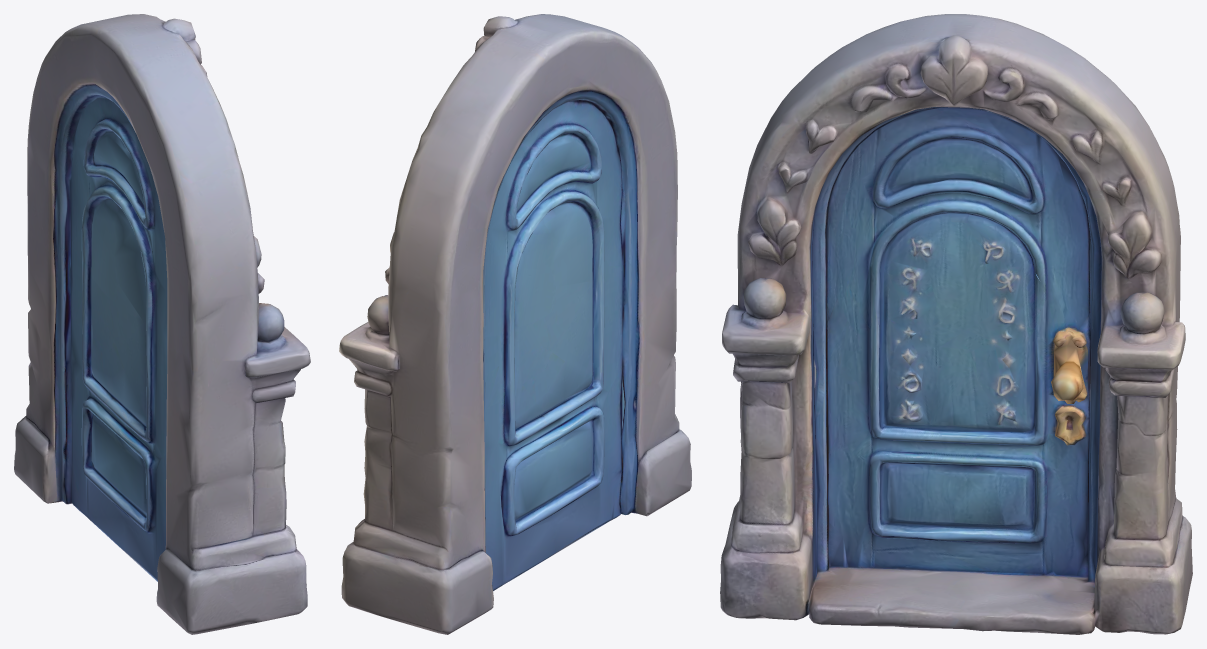
The model's file is magic_door.glb.
3 renders of one model, left to right at view 1: azimuth 30°, elevation 25°; view 2: azimuth 150°, elevation 25°; view 3: azimuth 270°, elevation 25°, orthographic. The views are drawn at different scales.
Parts seen in each view (by area): view 1: tripo_node_169cc96a-85ec-47cc-a2be-e67a8ac18102; view 2: tripo_node_169cc96a-85ec-47cc-a2be-e67a8ac18102; view 3: tripo_node_169cc96a-85ec-47cc-a2be-e67a8ac18102.
Boxes of the visible parts, left/top/right/bottom form: tripo_node_169cc96a-85ec-47cc-a2be-e67a8ac18102: left=14, top=14, right=310, bottom=634; tripo_node_169cc96a-85ec-47cc-a2be-e67a8ac18102: left=339, top=14, right=691, bottom=634; tripo_node_169cc96a-85ec-47cc-a2be-e67a8ac18102: left=720, top=14, right=1192, bottom=634.
Size of the model in its own units: 0.5444 by 1.8 by 1.36.
Materials: 1 (1 with a texture image).
